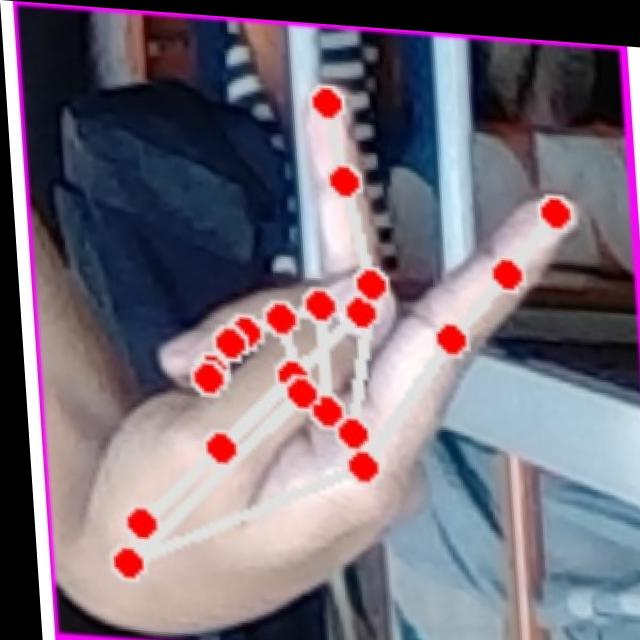P: (52, 42, 610, 640)
